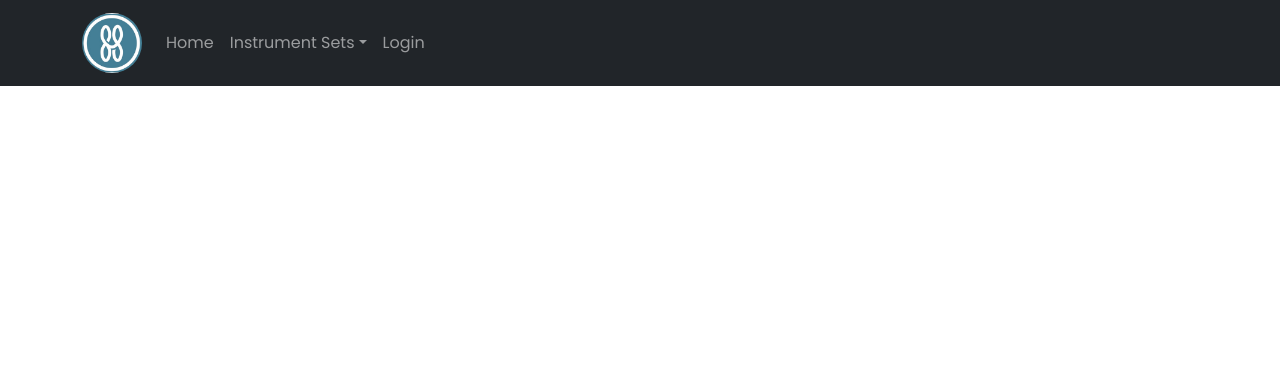
Test case: The navbar component › clicking dropdown menu should have 9 items in total
The width and height of the screenshot is (1280, 388).
Note: use adjustment kit as an example.
What coordinates should you click on to do the following:
click the button
I would click on:
 (292, 42)
Its box is top-left (230, 31), bottom-right (354, 54).
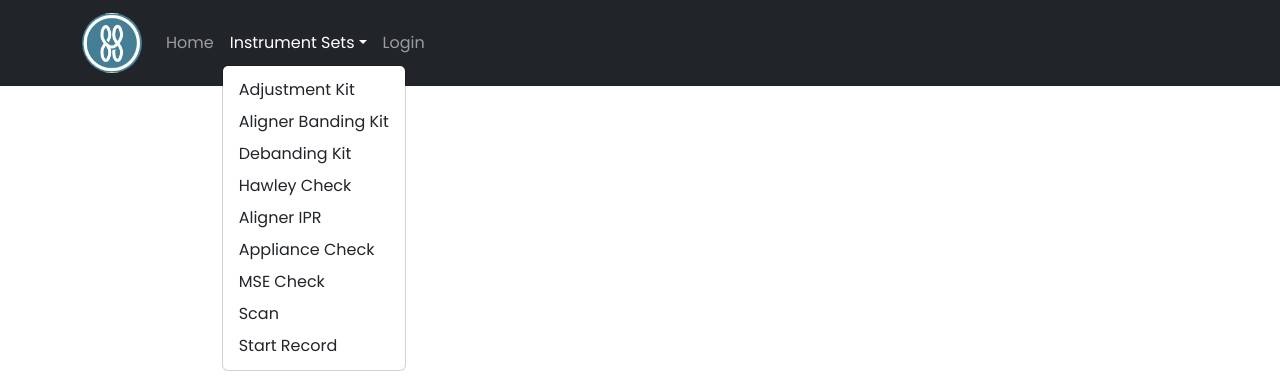
expect the number of links with test id "select-option" is 9: met
